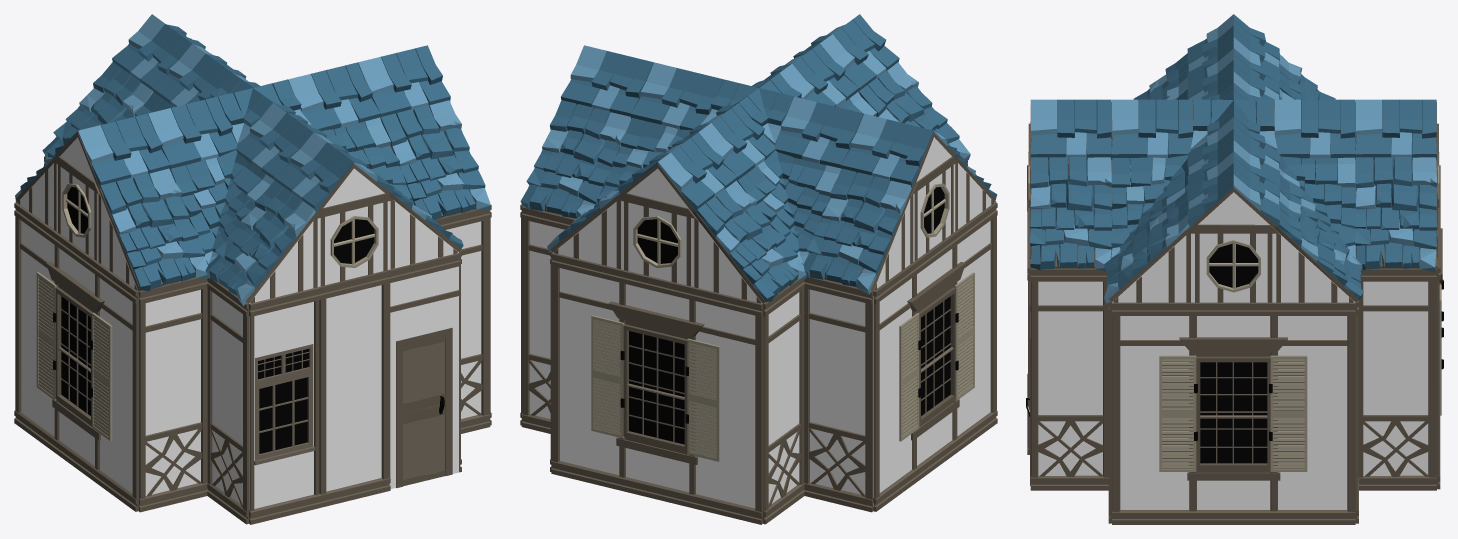
File: House_02_full.fbx
3 renders of one model, left to right at view 1: azimuth 30°, elevation 25°; view 2: azimuth 150°, elevation 25°; view 3: azimuth 270°, elevation 25°, orthographic.
Visible parts, largest first — view 1: WINDOW_07_2, WALL_03_2, WINDOW_04_2, WALL_04_3, DOOR_01_2, WALL_04_2, ROOF_base_3, ROOF_base_5, WALL_04_8, ROOF_base_2, ROOF_inner_corner_2, ROOF_Window_round_5 (+21 smaller); view 2: WINDOW_07_3, WINDOW_07_2, WALL_04_4, WALL_04_5, ROOF_base_9, ROOF_base_7, WALL_04_7, ROOF_base_8, ROOF_inner_corner_5, ROOF_Window_round_3, ROOF_base_small_15, ROOF_base_small_11 (+19 smaller); view 3: WINDOW_07_4, WALL_04_9, WALL_04_6, ROOF_base_6, ROOF_base_4, ROOF_Window_round_2, ROOF_inner_corner_3, ROOF_inner_corner_4, ROOF_base_small_8, ROOF_base_small_14, ROOF_base_small_13, ROOF_base_small_7 (+20 smaller).
Part boxes in pixels (x1,y1,x2,y2): WINDOW_07_2: (14,202,138,511); WALL_03_2: (319,270,390,507); WINDOW_04_2: (249,287,320,524); WALL_04_3: (138,277,207,512); DOOR_01_2: (389,252,460,488); WALL_04_2: (207,278,248,524); ROOF_base_3: (98,168,208,291); ROOF_base_5: (381,100,490,219); WALL_04_8: (435,209,490,433); ROOF_base_2: (205,180,318,306); ROOF_inner_corner_2: (170,150,274,264); ROOF_Window_round_5: (319,201,388,286); WINDOW_07_3: (551,252,762,524); WINDOW_07_2: (873,202,997,511); WALL_04_4: (804,277,873,512); WALL_04_5: (763,279,804,524); ROOF_base_9: (803,168,913,294); ROOF_base_7: (520,100,630,218); WALL_04_7: (521,206,575,433); ROOF_base_8: (693,180,806,303); ROOF_inner_corner_5: (737,150,841,264); ROOF_Window_round_3: (623,201,692,286); ROOF_base_small_15: (841,113,933,188); ROOF_base_small_11: (561,45,653,118); WINDOW_07_4: (1112,302,1355,524); WALL_04_9: (1030,268,1109,490); WALL_04_6: (1358,268,1436,490); ROOF_base_6: (1355,156,1437,272); ROOF_base_4: (1029,155,1111,271); ROOF_Window_round_2: (1193,233,1274,302); ROOF_inner_corner_3: (1111,155,1188,258); ROOF_inner_corner_4: (1279,155,1355,258); ROOF_base_small_8: (1030,99,1111,160); ROOF_base_small_14: (1355,99,1437,160); ROOF_base_small_13: (1274,99,1355,159); ROOF_base_small_7: (1111,99,1192,160).
Size of the model in its own units: 517 by 459 by 514.
